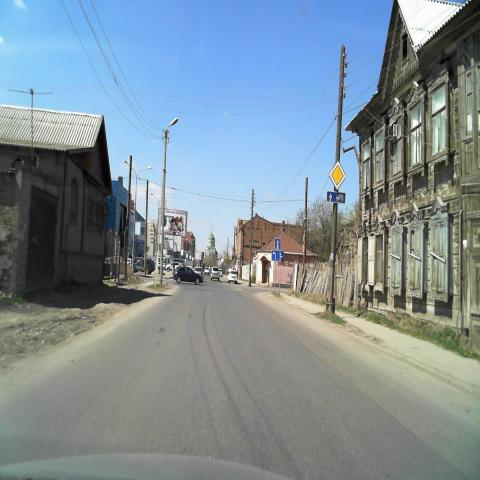6_15_1: (326, 190, 346, 204)
